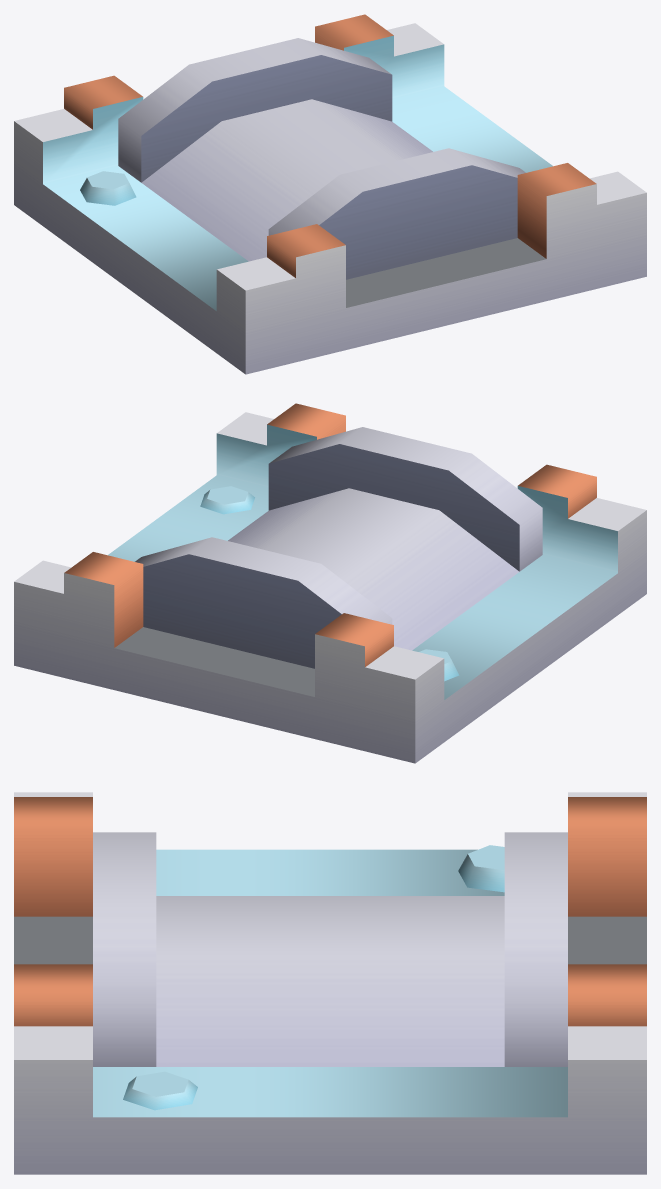
The model's file is snow-tile-river-bridge.fbx.
3 renders of one model, top to bottom at view 1: azimuth 30°, elevation 25°; view 2: azimuth 150°, elevation 25°; view 3: azimuth 270°, elevation 25°, orthographic. The views are drawn at different scales.
Visible parts, largest first — view 1: snow-tile-river-bridge; view 2: snow-tile-river-bridge; view 3: snow-tile-river-bridge.
Part boxes in pixels (left/top/right/bottom): snow-tile-river-bridge: left=14, top=14, right=646, bottom=374; snow-tile-river-bridge: left=14, top=403, right=646, bottom=763; snow-tile-river-bridge: left=14, top=792, right=646, bottom=1174.
Bounding box in the file's own units: 100 × 30 × 100.
